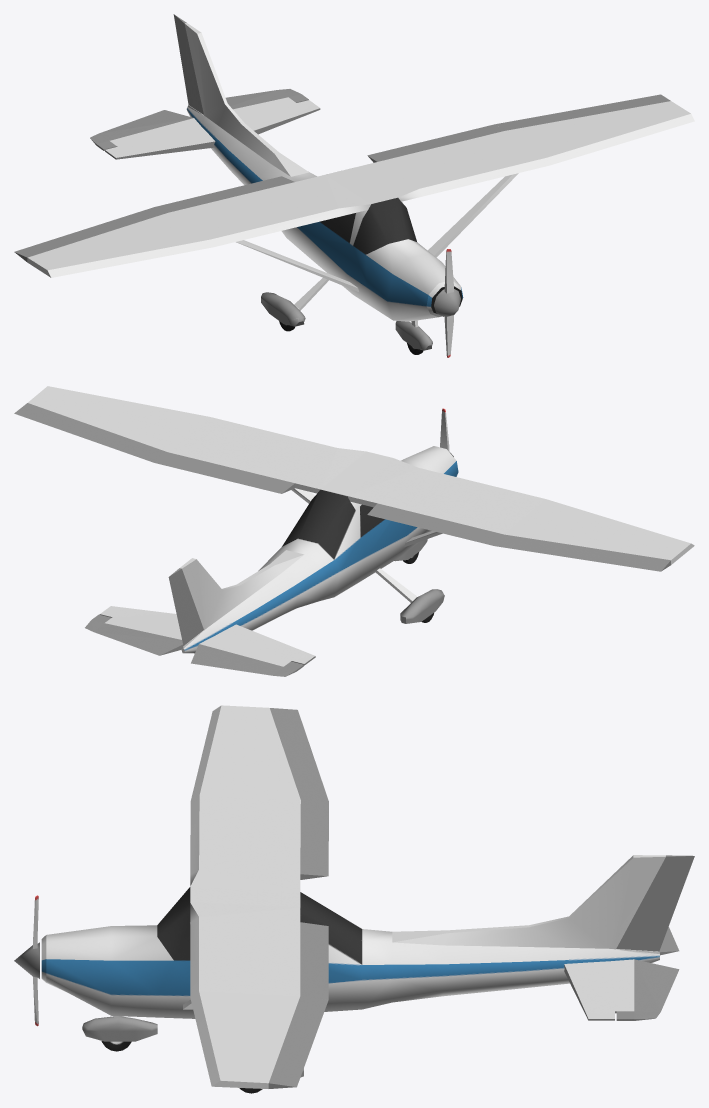
The picture shows the model from 3 angles, top to bottom: view 1: azimuth 30°, elevation 25°; view 2: azimuth 150°, elevation 25°; view 3: azimuth 270°, elevation 25°; orthographic projection. The views are drawn at different scales.
Parts seen in each view (by area): view 1: Body, Stabilizer, Elevator, RightAileron, LeftAileron, LeftFlap, RightFlap, Propeller, Rudder; view 2: Body, Stabilizer, Elevator, RightAileron, LeftAileron, LeftFlap, RightFlap, Rudder; view 3: Body, Rudder, Stabilizer, LeftAileron, RightAileron, Elevator, RightFlap, LeftFlap, Propeller.
Boxes of the visible parts, bbox=[...] form: Body: bbox=[27, 23, 694, 350]; Stabilizer: bbox=[105, 97, 320, 159]; Elevator: bbox=[90, 89, 308, 150]; RightAileron: bbox=[14, 207, 167, 261]; LeftAileron: bbox=[495, 94, 670, 130]; LeftFlap: bbox=[367, 124, 503, 162]; RightFlap: bbox=[155, 176, 294, 212]; Propeller: bbox=[434, 249, 460, 357]; Rudder: bbox=[173, 14, 203, 114]; Body: bbox=[28, 386, 694, 653]; Stabilizer: bbox=[99, 606, 315, 666]; Elevator: bbox=[85, 614, 303, 676]; RightAileron: bbox=[494, 534, 670, 571]; LeftAileron: bbox=[14, 403, 167, 462]; LeftFlap: bbox=[155, 452, 294, 493]; RightFlap: bbox=[367, 503, 503, 545]; Rudder: bbox=[168, 568, 203, 645]; Body: bbox=[41, 705, 665, 1088]; Rudder: bbox=[616, 855, 694, 951]; Stabilizer: bbox=[564, 959, 634, 1020]; LeftAileron: bbox=[268, 996, 328, 1088]; RightAileron: bbox=[270, 708, 328, 801]; Elevator: bbox=[616, 927, 679, 1020]; RightFlap: bbox=[300, 800, 328, 879]; LeftFlap: bbox=[300, 922, 328, 1000]; Propeller: bbox=[14, 895, 39, 1026].
Bounding box in the file's own units: 11.02 × 2.65 × 8.4.
1 material, 1 textured.
